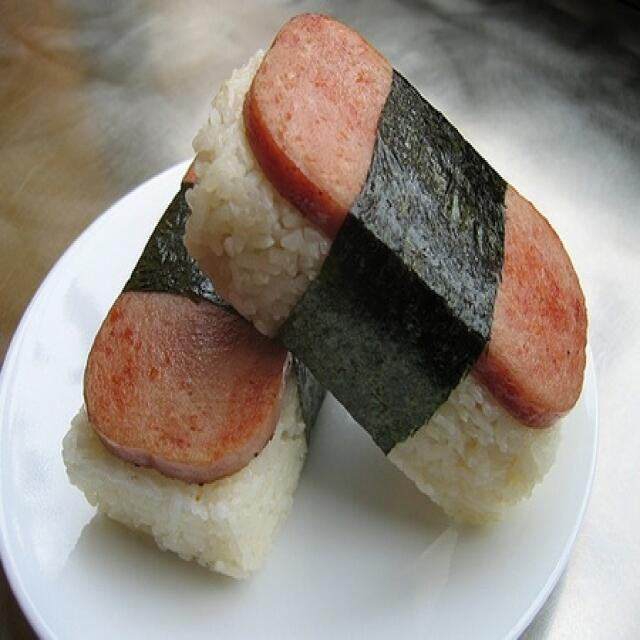寿司卷物: (49, 15, 602, 599)
